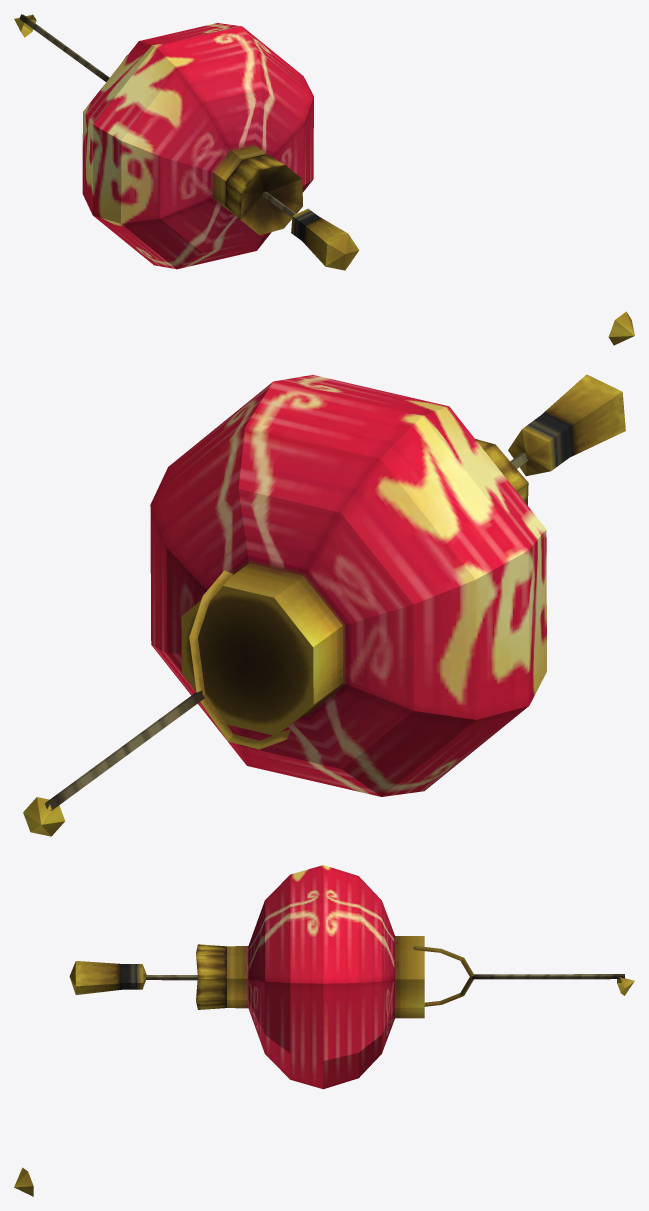
Rendered from Wolf_chineseLantern_fin.obj.
The picture shows the model from 3 angles, top to bottom: view 1: azimuth 30°, elevation 25°; view 2: azimuth 150°, elevation 25°; view 3: azimuth 270°, elevation 25°; orthographic projection. The views are drawn at different scales.
Parts seen in each view (by area): view 1: Wolf_chineseLantern_fin; view 2: Wolf_chineseLantern_fin; view 3: Wolf_chineseLantern_fin.
Part boxes in pixels (x1,y1,x2,y2): Wolf_chineseLantern_fin: (14,14,634,345); Wolf_chineseLantern_fin: (23,374,625,836); Wolf_chineseLantern_fin: (14,865,634,1196).
Bounding box in the file's own units: 0.5888 × 0.3694 × 0.9987.
1 material, 1 textured.
